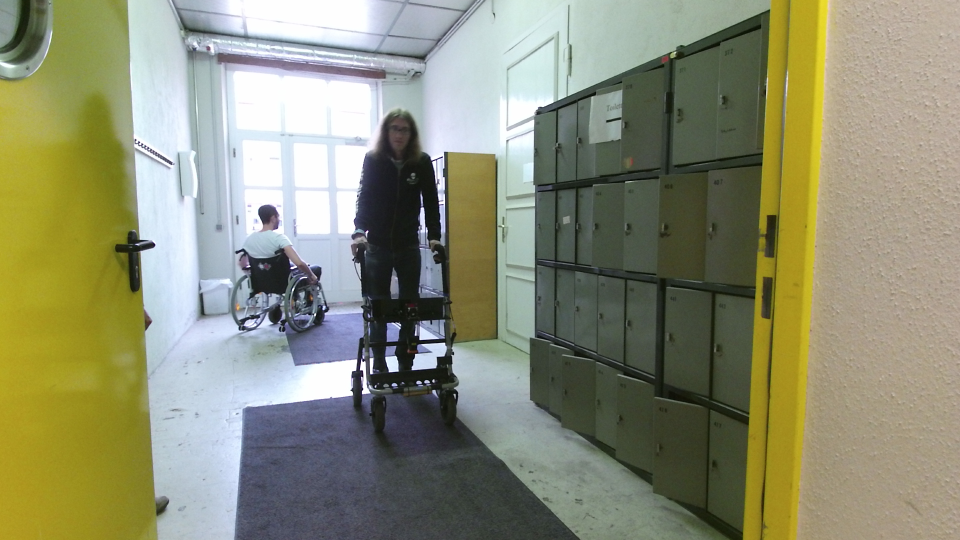wheelchair: (225, 200, 332, 338)
